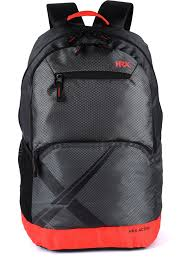backpack: (17, 0, 163, 251)
